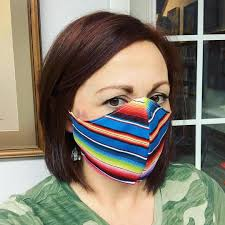cloth_mask: (69, 98, 173, 184)
